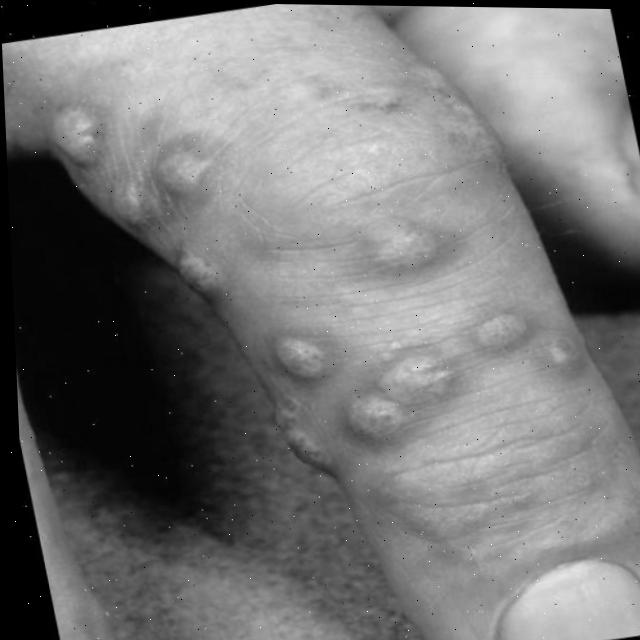Shingles: (270, 218, 574, 485), (56, 104, 239, 283)
